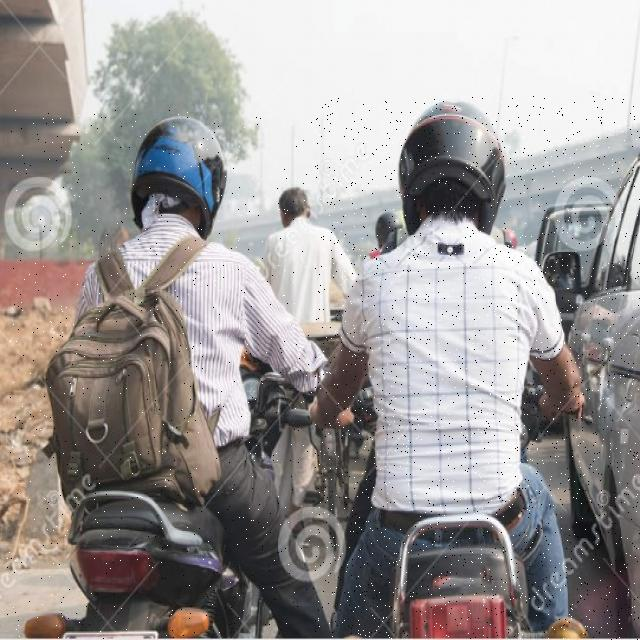With Helmet: (315, 95, 640, 640), (7, 109, 323, 640)
